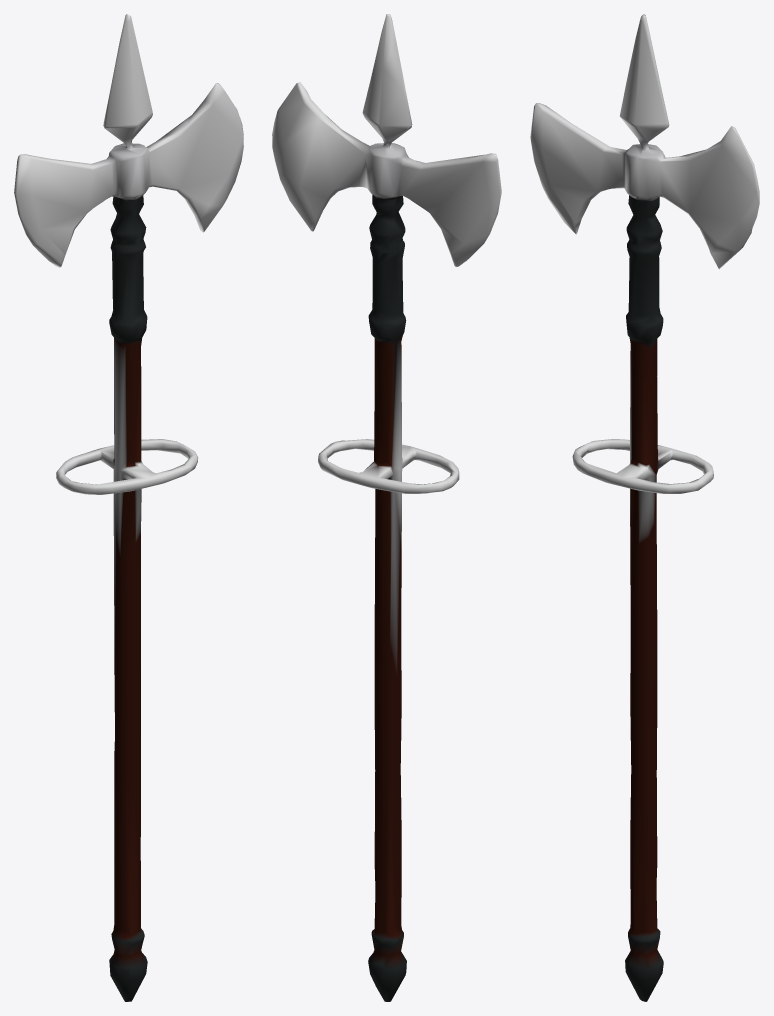
File: gen3d-halberd-lod1.glb
3 renders of one model, left to right at view 1: azimuth 30°, elevation 25°; view 2: azimuth 150°, elevation 25°; view 3: azimuth 330°, elevation 25°, orthographic.
Visible parts, largest first — view 1: part_0; view 2: part_0; view 3: part_0.
Part boxes in pixels (left/top/right/bottom): part_0: left=14, top=14, right=243, bottom=1001; part_0: left=272, top=14, right=501, bottom=1001; part_0: left=530, top=14, right=759, bottom=1001.
Size of the model in its own units: 0.243 by 0.9992 by 0.0828.
